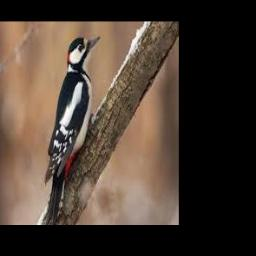Woodpecker: (45, 35, 101, 225)
